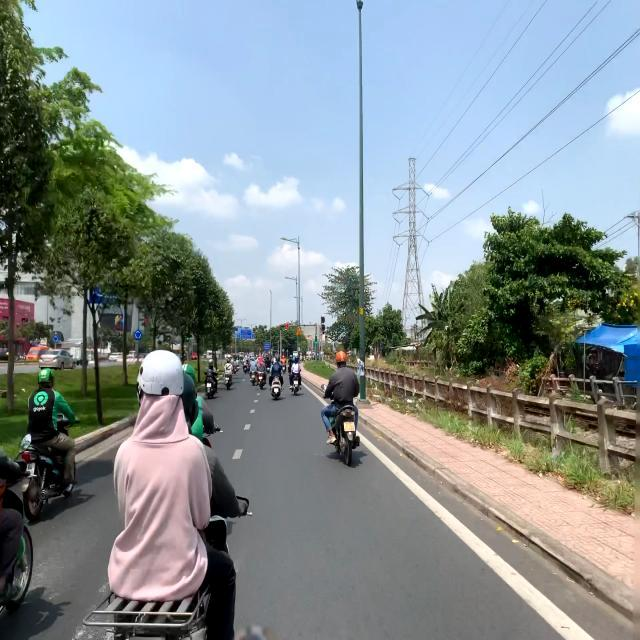Giao nhau voi duong sat co rao chan: (296, 327, 303, 335)
Noi giao nhau chay theo vong xuyen: (134, 330, 142, 340), (53, 335, 59, 343)
